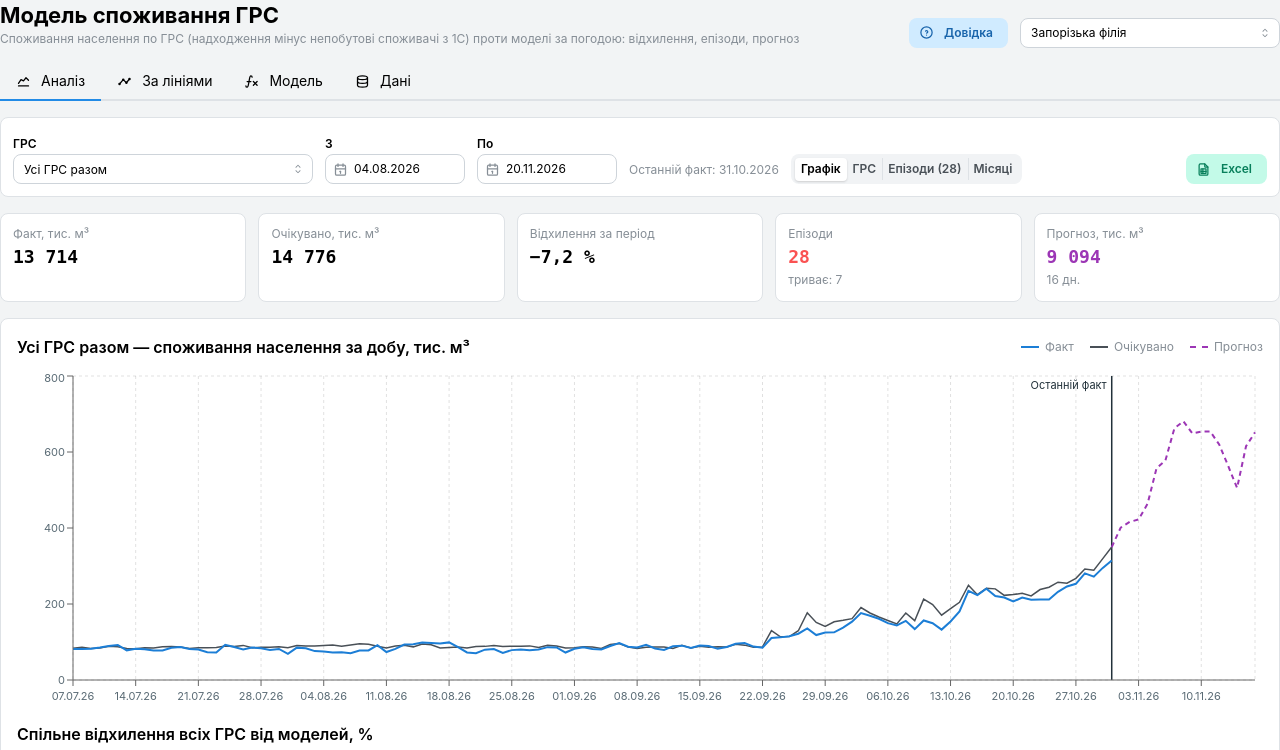
Test: GrsModelPage › model tab shows quality per station and the train button
Click the tab "Модель" at (284, 82), box [228, 64, 339, 101]
(page scrolled)
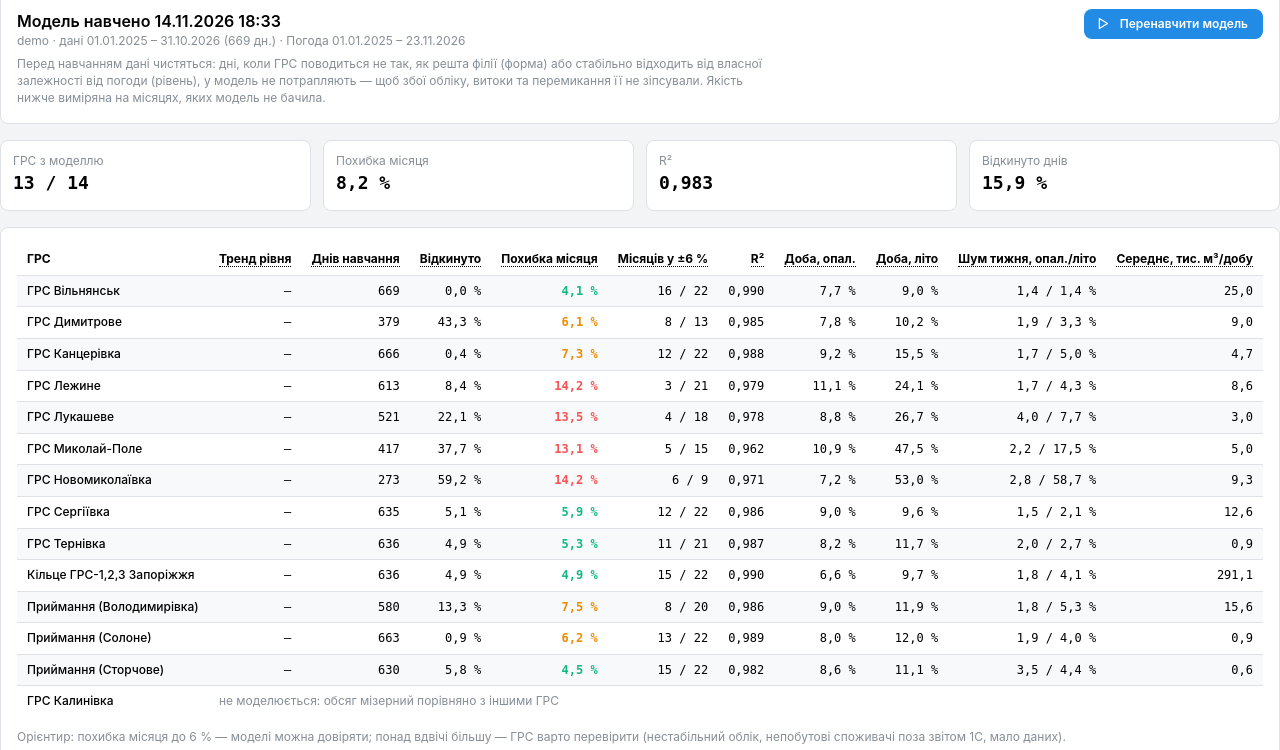
Expected: the button "Перенавчити модель" is shown, [1084, 9, 1263, 39]
Expected: the text "не моделюється: обсяг мізерний порівняно з іншими ГРС" is shown, [209, 686, 1263, 717]
